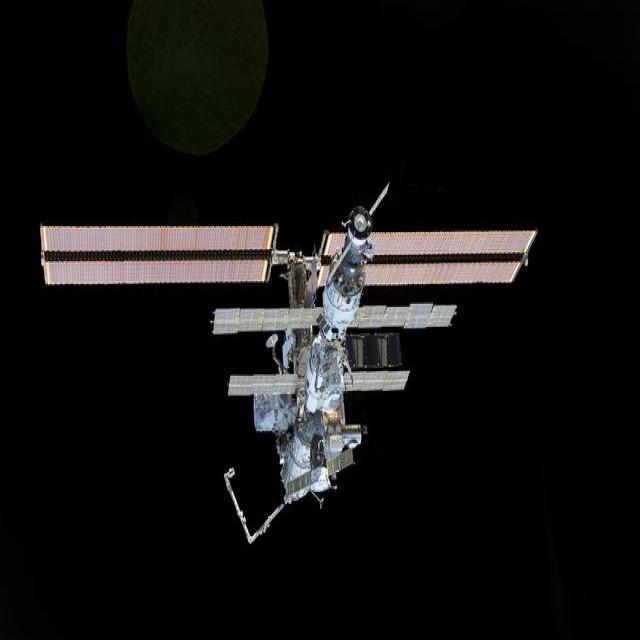medium_debris: (33, 167, 546, 567)
